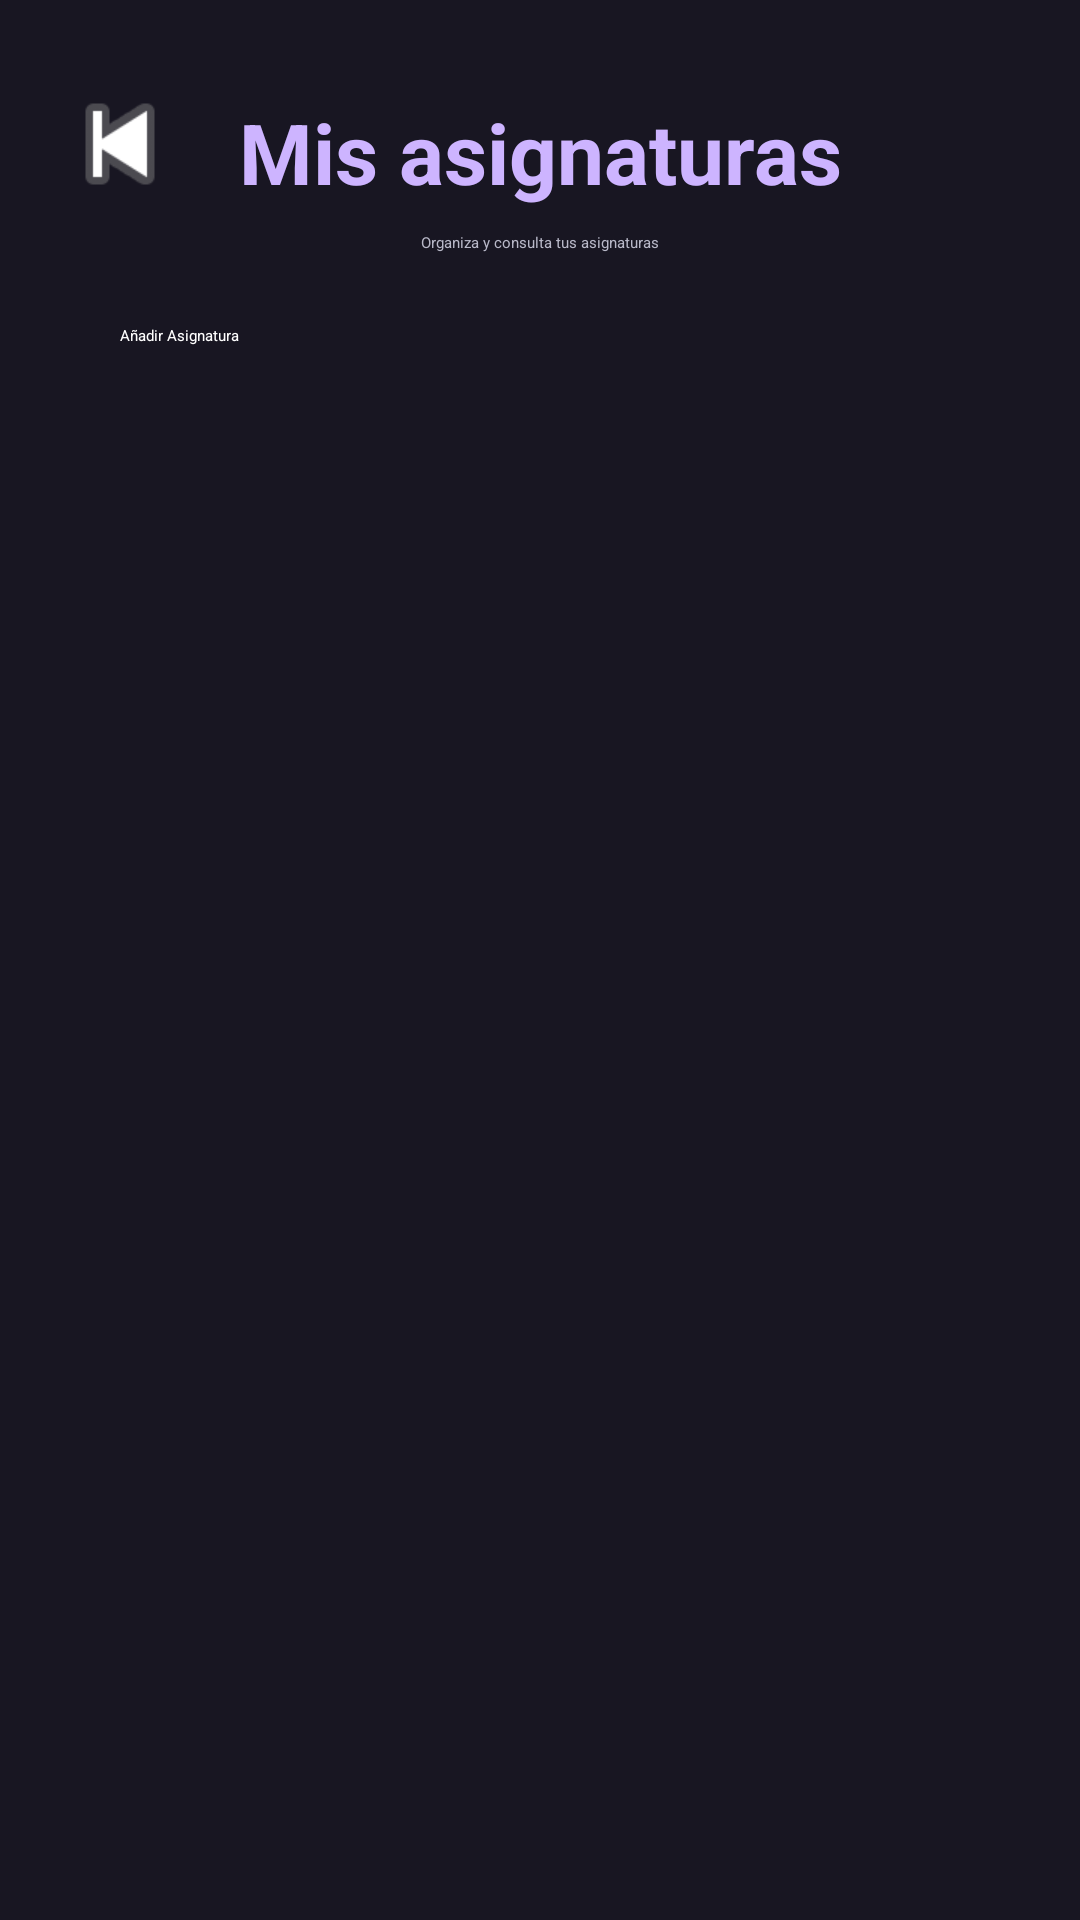

Named icons in this screenshot (1080w x 1920h) and their bounding boxes, (x1, y1, x2, y2):
Volver al inicio: (85, 103, 155, 185)
